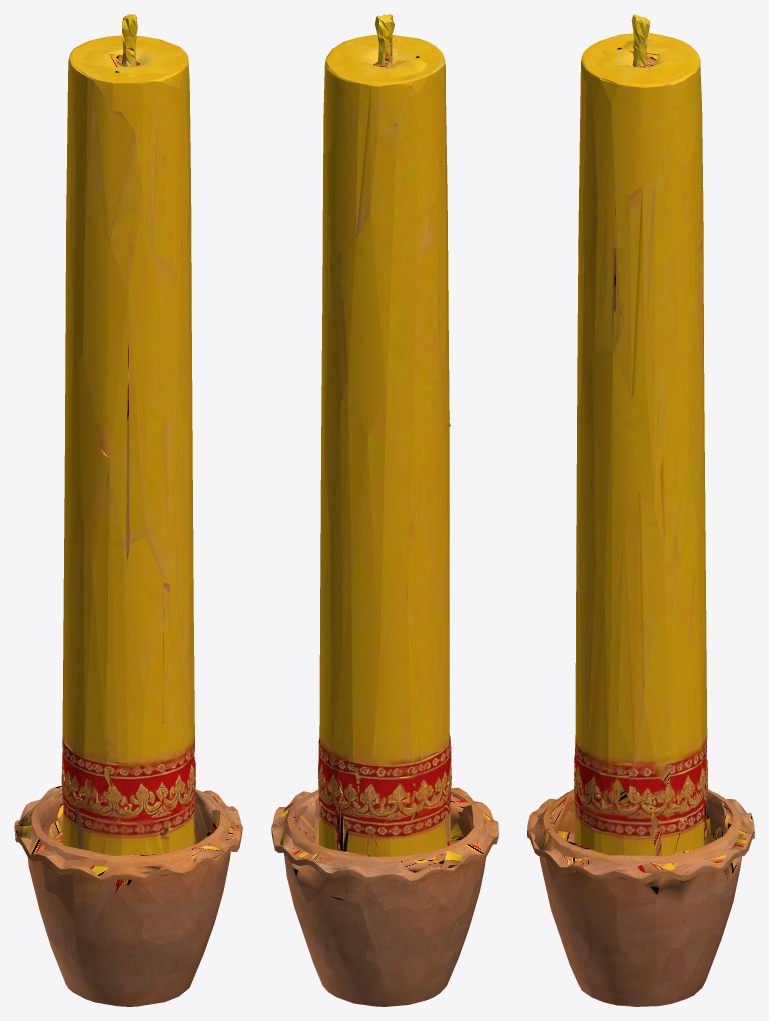
File: w3candle.glb
3 views of the same model, side by side, from view 1: azimuth 30°, elevation 25°; view 2: azimuth 150°, elevation 25°; view 3: azimuth 270°, elevation 25° (orthographic).
Visible parts, largest first — view 1: w3candle_near, w3candle_far; view 2: w3candle_near, w3candle_far; view 3: w3candle_near, w3candle_far.
Part boxes in pixels (x1,y1,x2,y2): w3candle_near: (14, 14, 242, 1006); w3candle_far: (14, 37, 240, 954); w3candle_near: (271, 14, 498, 1006); w3candle_far: (273, 36, 493, 997); w3candle_near: (527, 14, 754, 1006); w3candle_far: (531, 39, 753, 937).
Bounding box in the file's own units: 0.267 × 1.25 × 0.2672.
Materials: 1 (1 with a texture image).
